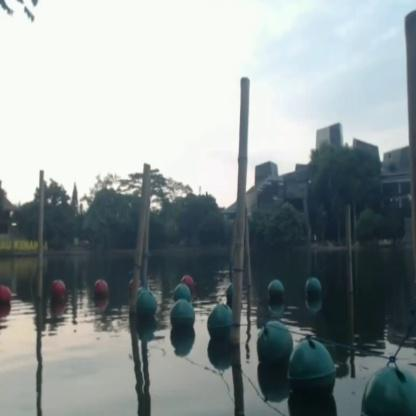green_buoy: (288, 340, 334, 408), (361, 365, 415, 415), (256, 322, 292, 375), (207, 302, 235, 345), (171, 298, 194, 334), (136, 286, 156, 324), (266, 279, 284, 310), (304, 277, 322, 305)
red_buoy: (47, 275, 68, 307), (92, 278, 108, 305), (0, 280, 12, 305)
